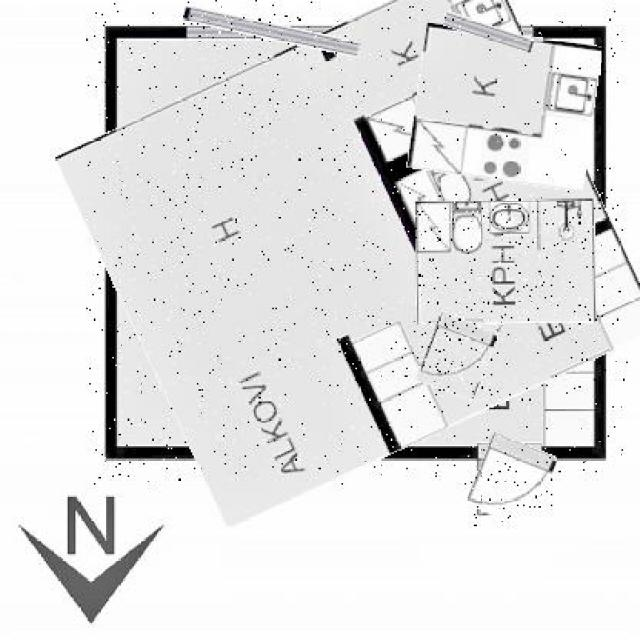door: (471, 437, 552, 526), (422, 315, 492, 397)
window: (183, 16, 360, 50), (443, 18, 534, 44)
zone: (86, 0, 628, 486), (411, 28, 597, 186), (417, 200, 595, 323)
